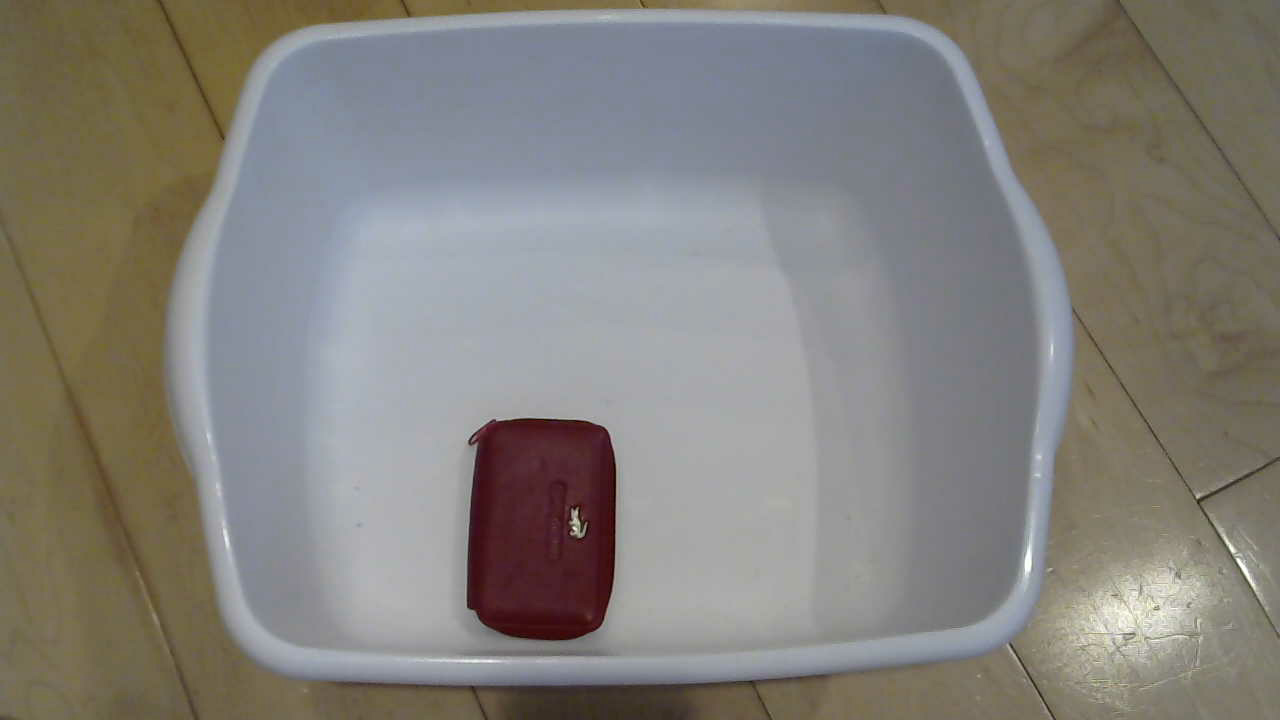wallet: (462, 417, 632, 651)
